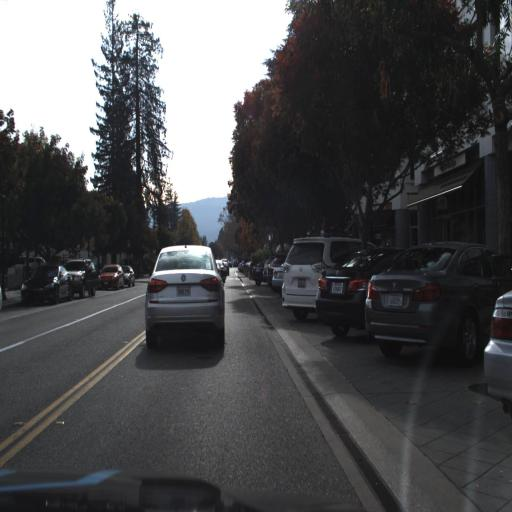car: (365, 237, 485, 354), (146, 243, 225, 358), (315, 241, 371, 338), (317, 250, 365, 335), (278, 233, 319, 324), (486, 284, 512, 423), (282, 237, 316, 314), (19, 265, 70, 302), (63, 255, 102, 299), (70, 256, 96, 295), (96, 261, 126, 293), (99, 264, 122, 288), (123, 265, 134, 288)
